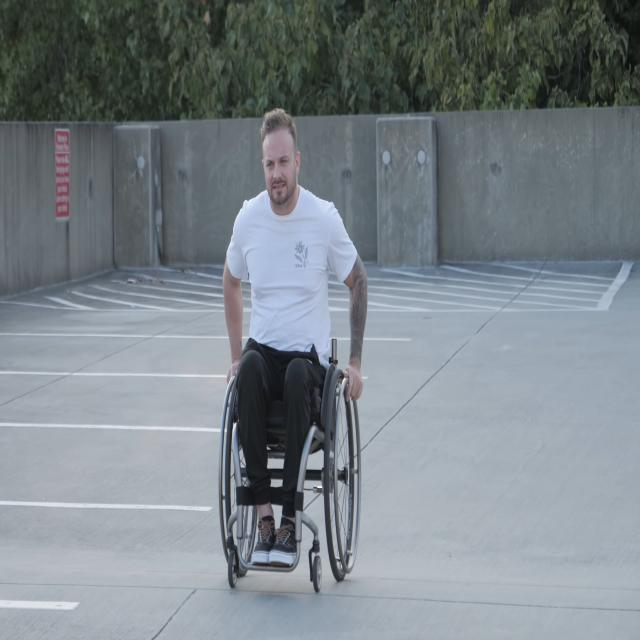wheelchairs: (218, 296, 362, 590)
